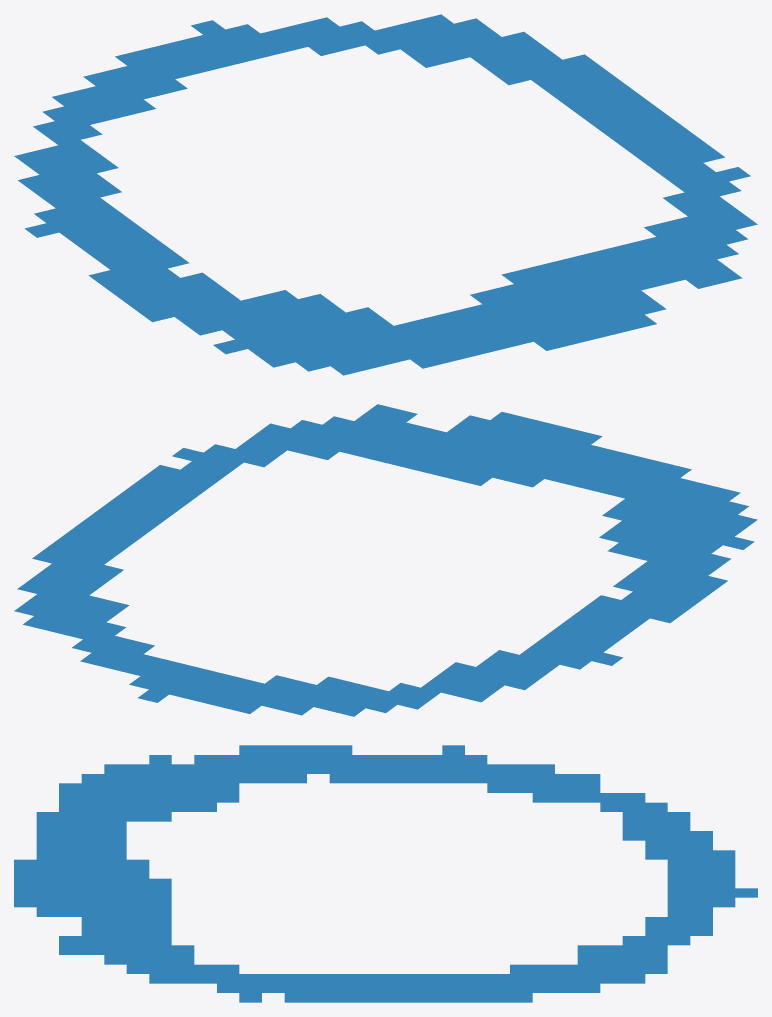
The model's file is Isl-islet6-PlaceForWaterObjects.fbx.
3 renders of one model, top to bottom at view 1: azimuth 30°, elevation 25°; view 2: azimuth 150°, elevation 25°; view 3: azimuth 270°, elevation 25°, orthographic. The views are drawn at different scales.
Parts seen in each view (by area): view 1: Isl-islet6-PlaceForWaterObjects; view 2: Isl-islet6-PlaceForWaterObjects; view 3: Isl-islet6-PlaceForWaterObjects.
Part boxes in pixels (bbox=[...]): Isl-islet6-PlaceForWaterObjects: bbox=[14, 14, 757, 375]; Isl-islet6-PlaceForWaterObjects: bbox=[14, 404, 757, 716]; Isl-islet6-PlaceForWaterObjects: bbox=[14, 745, 757, 1002].
Bounding box in the file's own units: 27 × 0 × 33.
